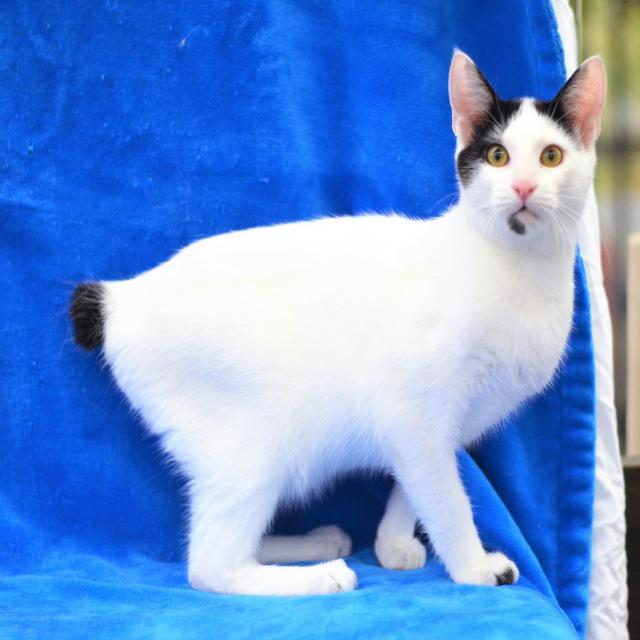American Bobtail: (65, 43, 612, 605)
